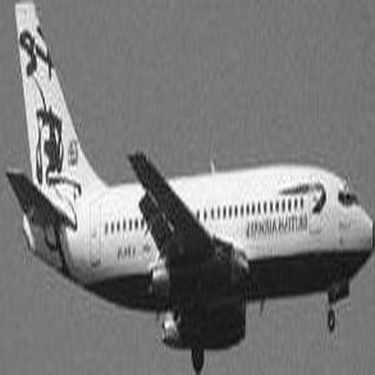airplane: (7, 6, 362, 363)
